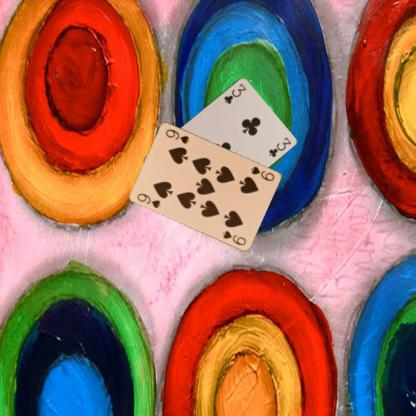3c: (222, 81, 248, 105)
9s: (248, 164, 277, 182), (135, 191, 162, 209)
